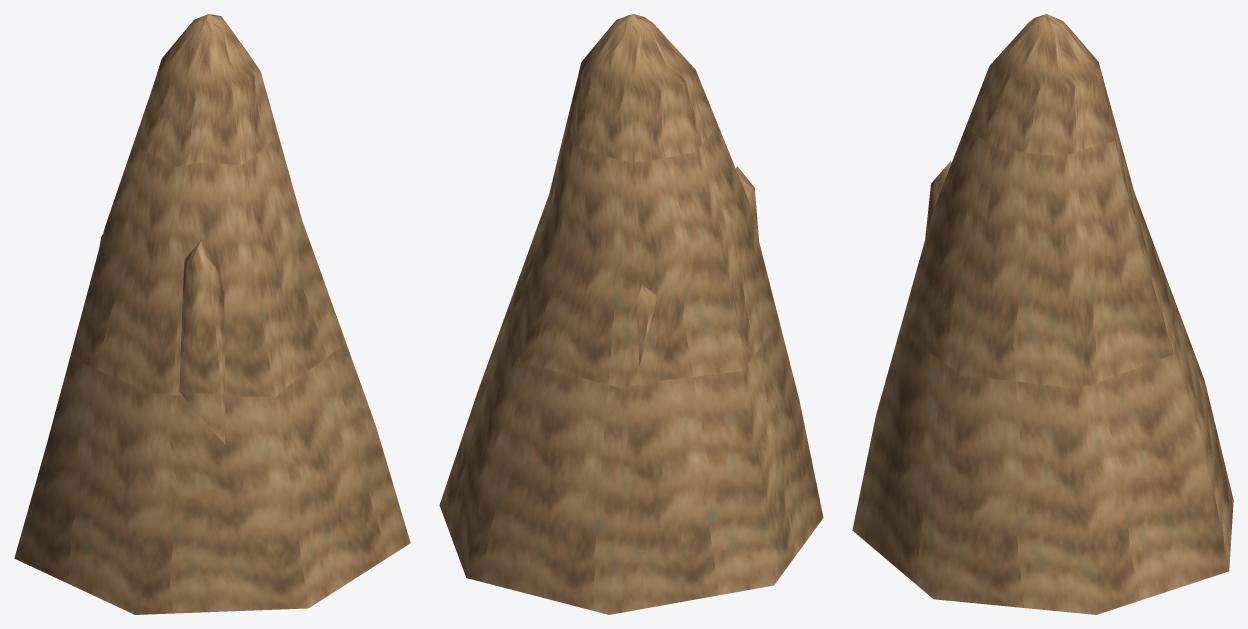
The model's file is Termite_Mound_1_LOD1.gltf.
3 renders of one model, left to right at view 1: azimuth 30°, elevation 25°; view 2: azimuth 150°, elevation 25°; view 3: azimuth 270°, elevation 25°, orthographic.
Visible parts, largest first — view 1: Termite_Mound_1_LOD1; view 2: Termite_Mound_1_LOD1; view 3: Termite_Mound_1_LOD1.
Part boxes in pixels (x1=…): Termite_Mound_1_LOD1: x1=14, y1=14, x2=410, y2=614; Termite_Mound_1_LOD1: x1=439, y1=14, x2=823, y2=614; Termite_Mound_1_LOD1: x1=852, y1=14, x2=1233, y2=614.
Bounding box in the file's own units: 1.75 × 2.58 × 1.72.
Materials: 1 (1 with a texture image).
